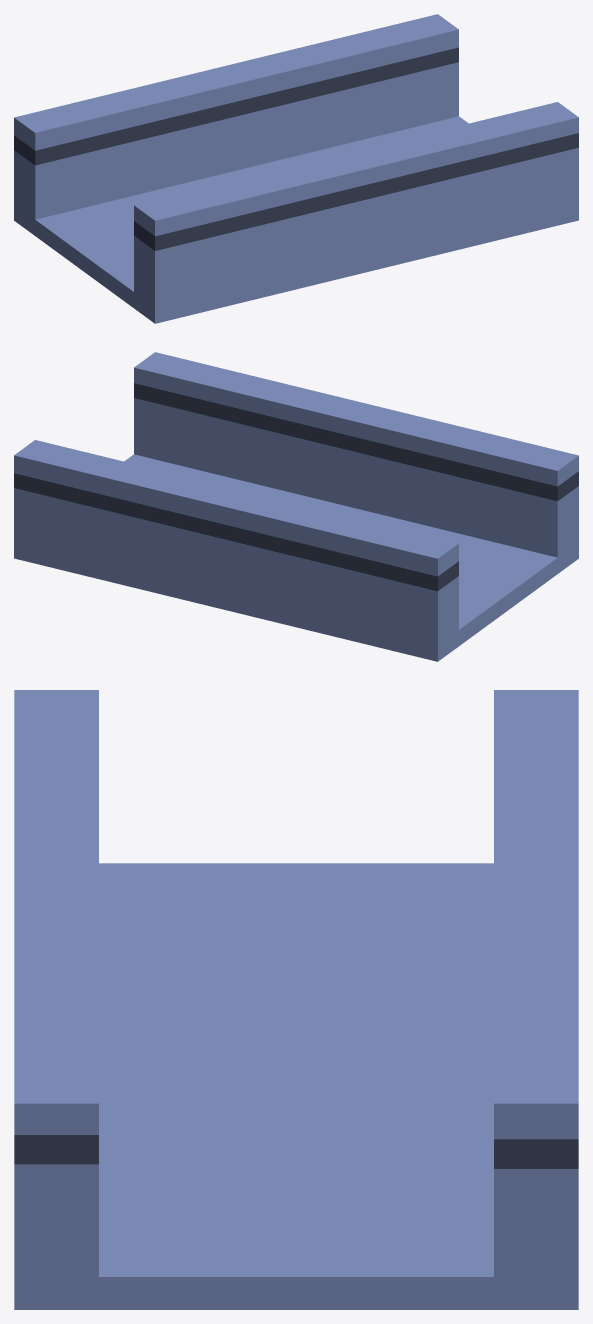
File: straight_structure.fbx
3 renders of one model, top to bottom at view 1: azimuth 30°, elevation 25°; view 2: azimuth 150°, elevation 25°; view 3: azimuth 270°, elevation 25°, orthographic. The views are drawn at different scales.
Parts seen in each view (by area): view 1: Bordure.002; view 2: Bordure.002; view 3: Bordure.002.
Part boxes in pixels (bbox=[...]): Bordure.002: bbox=[14, 14, 578, 323]; Bordure.002: bbox=[14, 352, 578, 661]; Bordure.002: bbox=[14, 690, 578, 1309].
Bounding box in the file's own units: 509 × 118 × 294.
